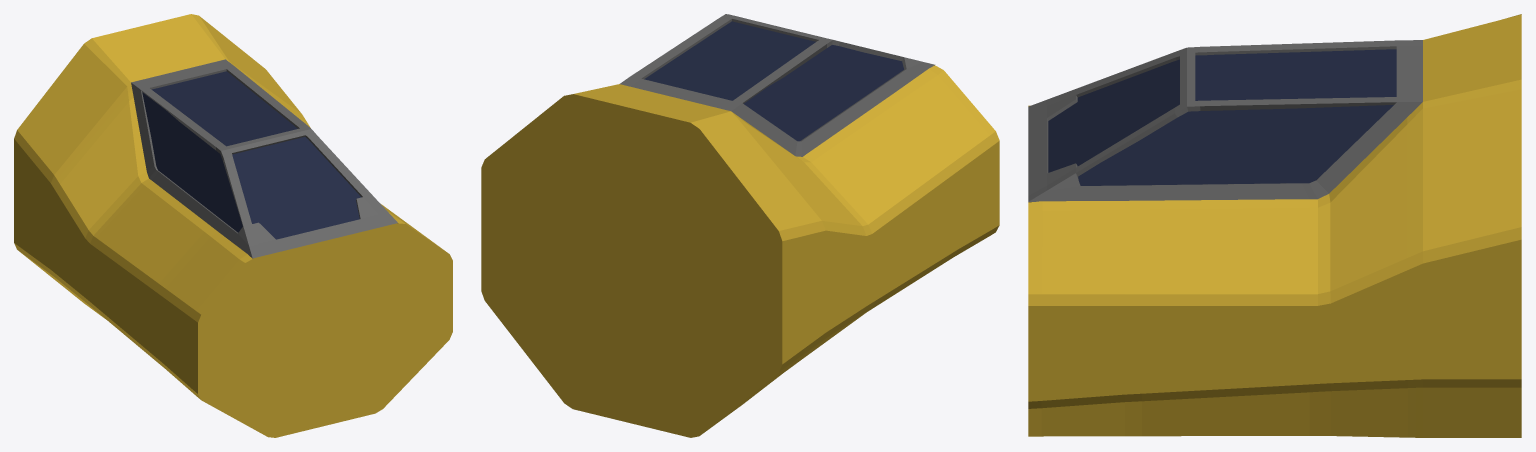
The model's file is Cockpit.fbx.
3 views of the same model, side by side, from view 1: azimuth 30°, elevation 25°; view 2: azimuth 150°, elevation 25°; view 3: azimuth 270°, elevation 25° (orthographic). The views are drawn at different scales.
Visible parts, largest first — view 1: Cockpit, Cockpit_Windows, Cockpit_CanopyFrame; view 2: Cockpit, Cockpit_Windows, Cockpit_CanopyFrame; view 3: Cockpit, Cockpit_Windows, Cockpit_CanopyFrame.
Boxes of the visible parts, x1=… form: Cockpit: x1=14, y1=14, x2=452, y2=437; Cockpit_Windows: x1=142, y1=71, x2=361, y2=239; Cockpit_CanopyFrame: x1=131, y1=59, x2=397, y2=258; Cockpit: x1=481, y1=65, x2=999, y2=437; Cockpit_Windows: x1=644, y1=21, x2=903, y2=141; Cockpit_CanopyFrame: x1=620, y1=14, x2=934, y2=156; Cockpit: x1=1028, y1=14, x2=1521, y2=437; Cockpit_Windows: x1=1048, y1=49, x2=1396, y2=185; Cockpit_CanopyFrame: x1=1028, y1=40, x2=1422, y2=202.
Size of the model in its own units: 200 by 200 by 250.
